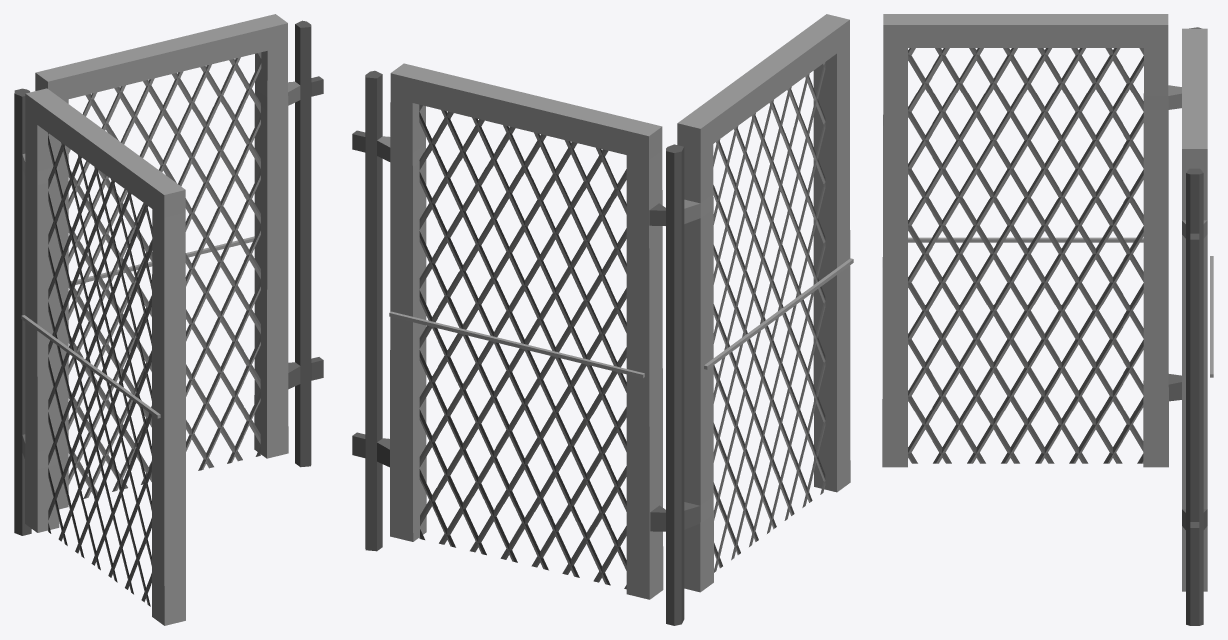
The model's file is plot_4_bok.fbx.
3 views of the same model, side by side, from view 1: azimuth 30°, elevation 25°; view 2: azimuth 150°, elevation 25°; view 3: azimuth 270°, elevation 25° (orthographic). The views are drawn at different scales.
Parts seen in each view (by area): view 1: Cube.004, Plane.006; view 2: Cube.004, Plane.006; view 3: Cube.004, Plane.006.
Boxes of the visible parts, x1,y1,x2,y2 form: Cube.004: (14, 14, 323, 625); Plane.006: (48, 52, 261, 606); Cube.004: (352, 14, 853, 625); Plane.006: (419, 62, 825, 589); Cube.004: (882, 14, 1213, 625); Plane.006: (908, 48, 1143, 463).
Size of the model in its own units: 142 by 219 by 159.
